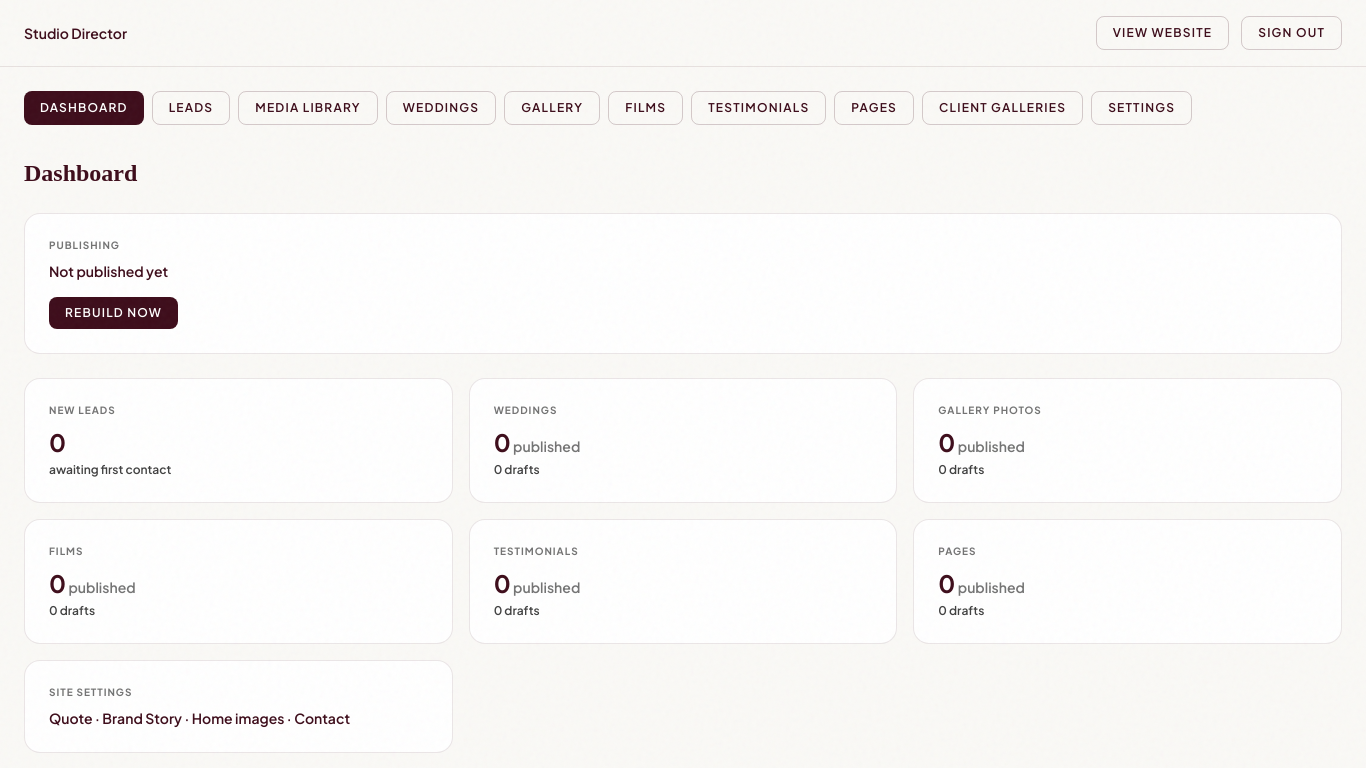
admin App shell › Media Library tab › deletes a photograph from the library after confirmation, via deleteMedia
Click the button "Media Library" at (308, 108), box [238,91,378,125]
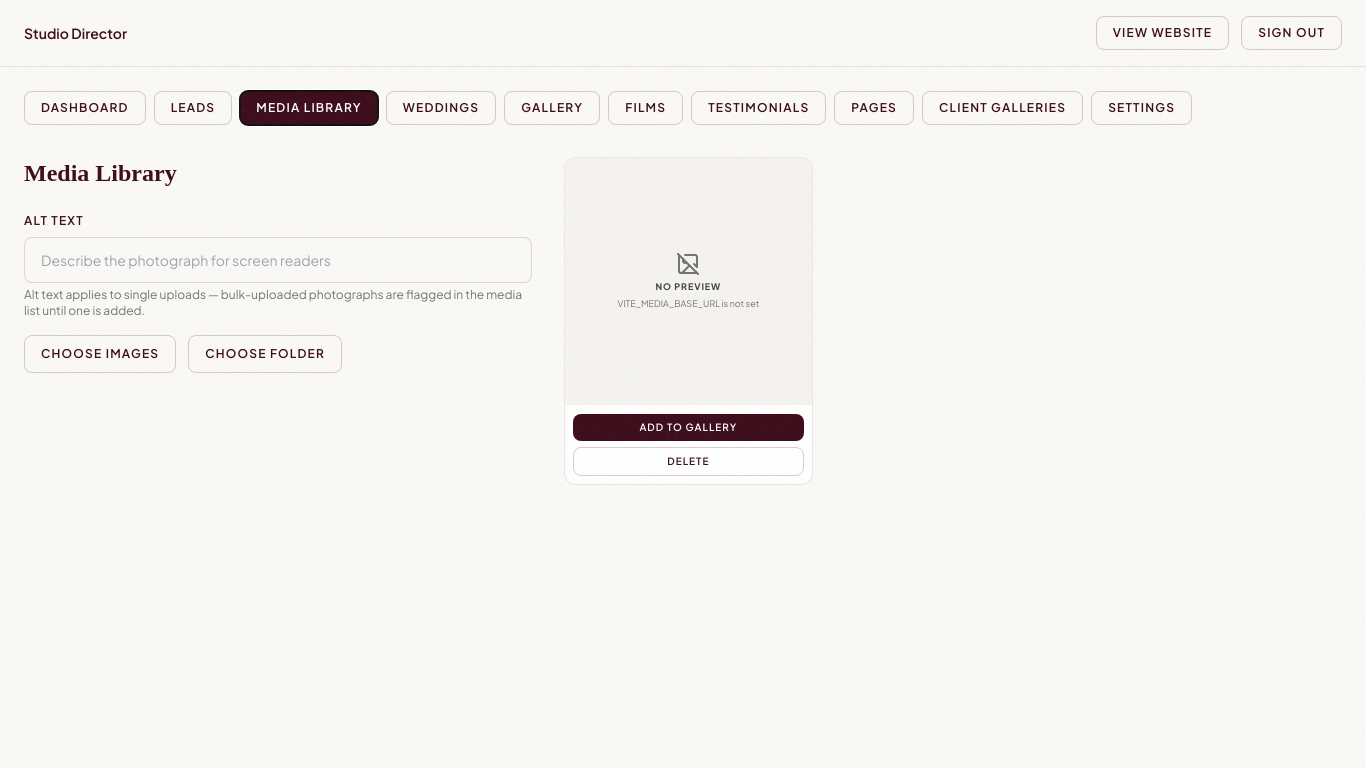
Now the button with aria-label "delete photograph: a couple at dusk" is shown
Click the button with aria-label "delete photograph: a couple at dusk" at (688, 461), box [573,447,804,476]
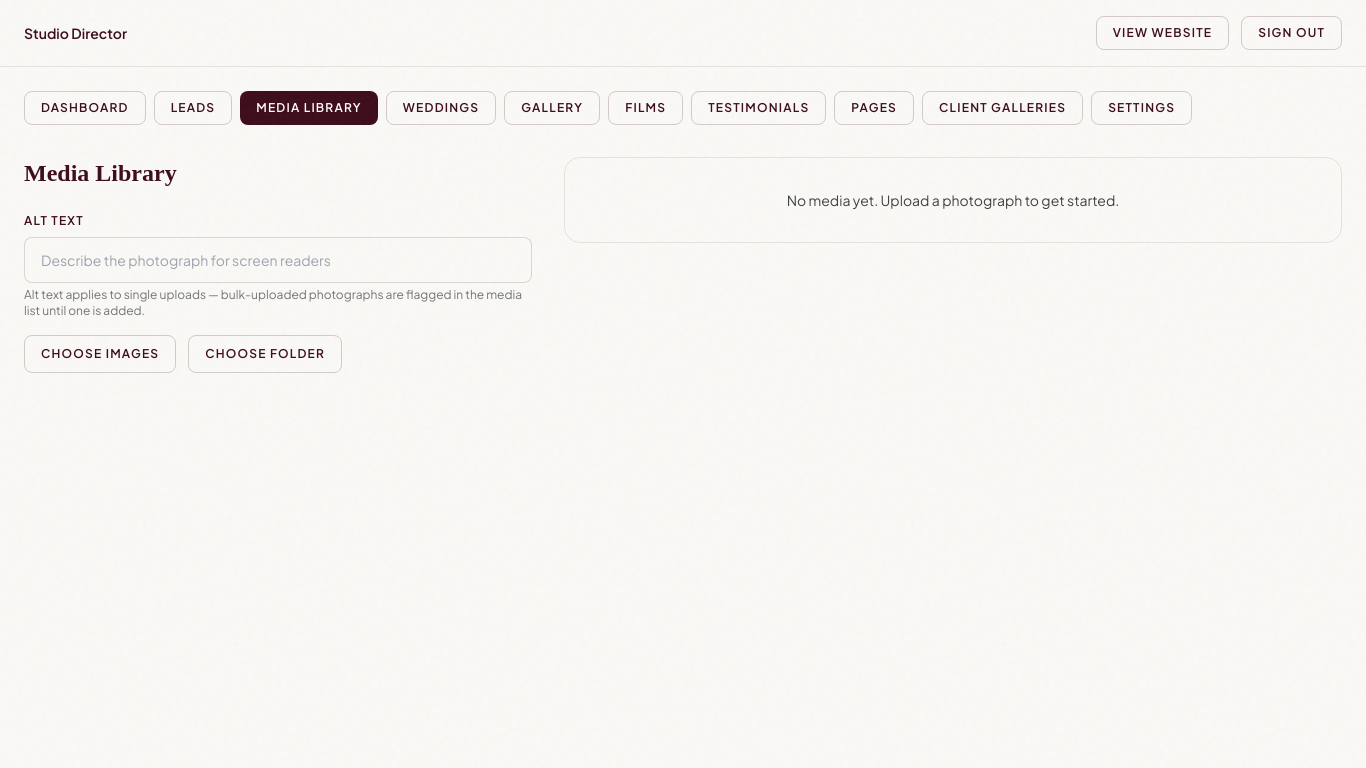
Now the text "No media yet. Upload a photograph to get started." is shown, box [564,157,1342,243]
